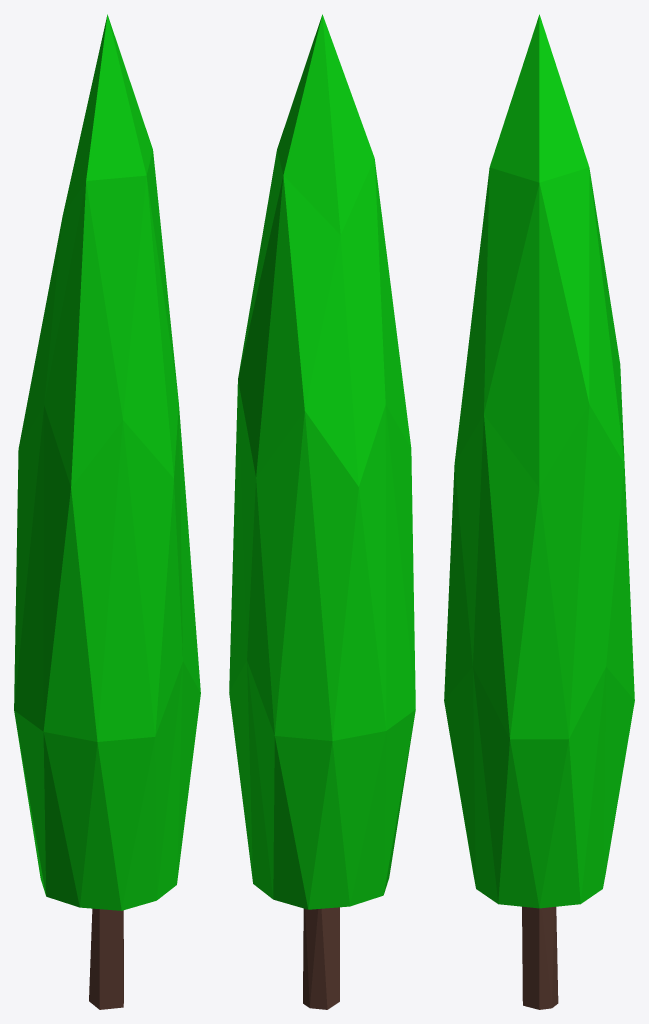
The model's file is tree.glb.
3 renders of one model, left to right at view 1: azimuth 30°, elevation 25°; view 2: azimuth 150°, elevation 25°; view 3: azimuth 270°, elevation 25°, orthographic.
Visible parts, largest first — view 1: tree; view 2: tree; view 3: tree.
Boxes of the visible parts, <box> form: tree: <box>14,14,200,1009</box>; tree: <box>229,14,415,1009</box>; tree: <box>444,14,634,1009</box>.
Bounding box in the file's own units: 0.8917 × 5.36 × 0.9376.
